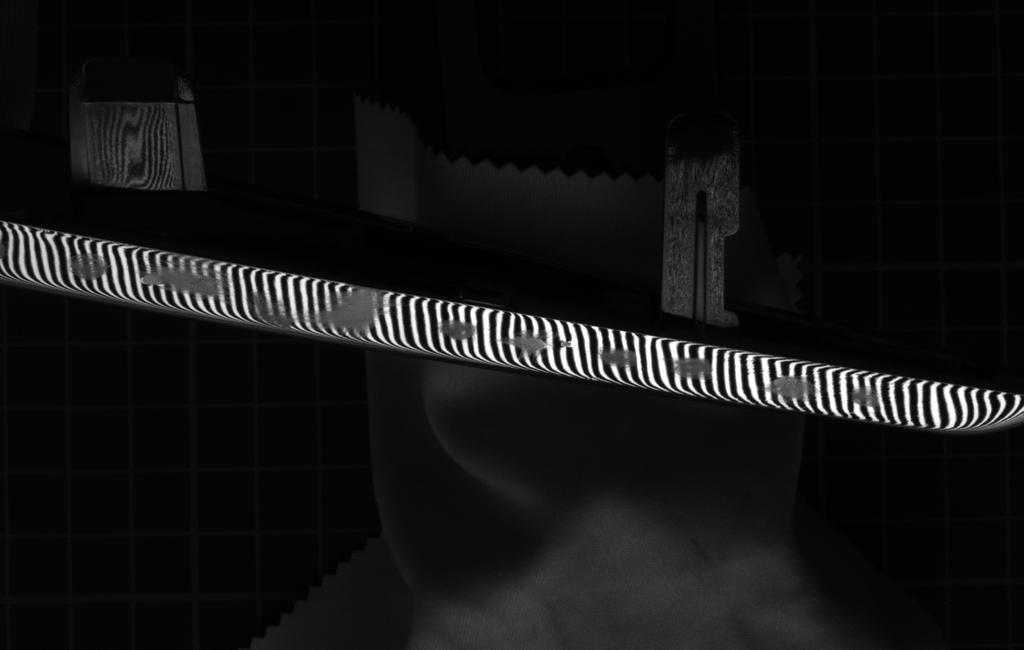Pierced: (555, 333, 579, 353)
Pitting: (133, 255, 236, 305), (311, 282, 393, 339), (242, 287, 301, 331), (63, 243, 116, 287), (761, 367, 822, 405), (497, 321, 548, 362), (430, 311, 484, 349), (667, 348, 719, 387), (845, 379, 887, 412), (597, 339, 637, 372)
